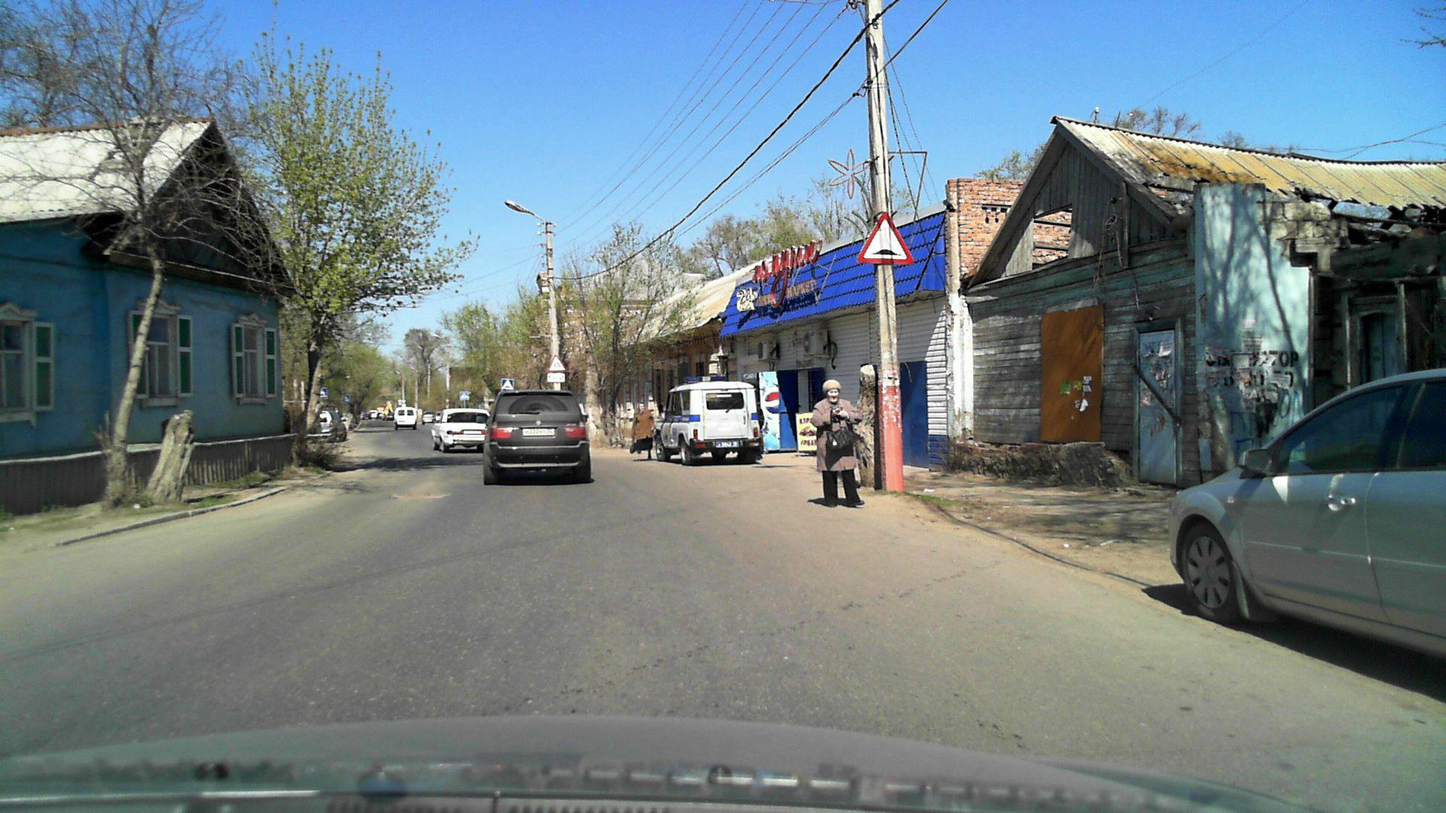road_sign: (856, 213, 913, 264)
